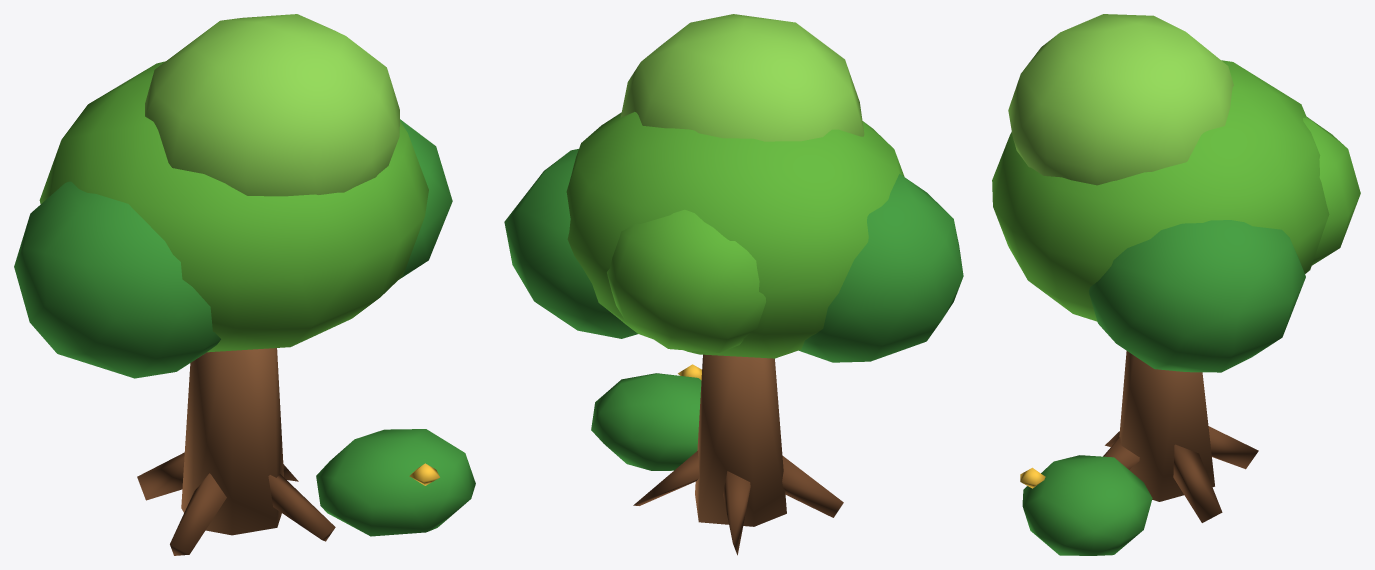
Rendered from arvores.glb.
3 renders of one model, left to right at view 1: azimuth 30°, elevation 25°; view 2: azimuth 150°, elevation 25°; view 3: azimuth 270°, elevation 25°, orthographic. The views are drawn at different scales.
Parts seen in each view (by area): view 1: Arvore; view 2: Arvore; view 3: Arvore.
Boxes of the visible parts, x1,y1,x2,y2 form: Arvore: [14, 14, 475, 555]; Arvore: [504, 14, 963, 555]; Arvore: [992, 14, 1360, 555].
Size of the model in its own units: 1.2 by 1.36 by 0.9536.
